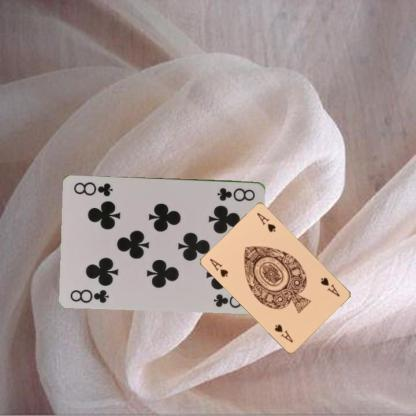8c: (67, 286, 110, 304), (215, 185, 256, 203)
As: (318, 275, 341, 298), (207, 256, 230, 278)
